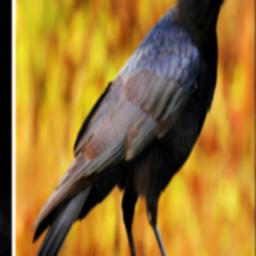Crow: (25, 0, 241, 256)
